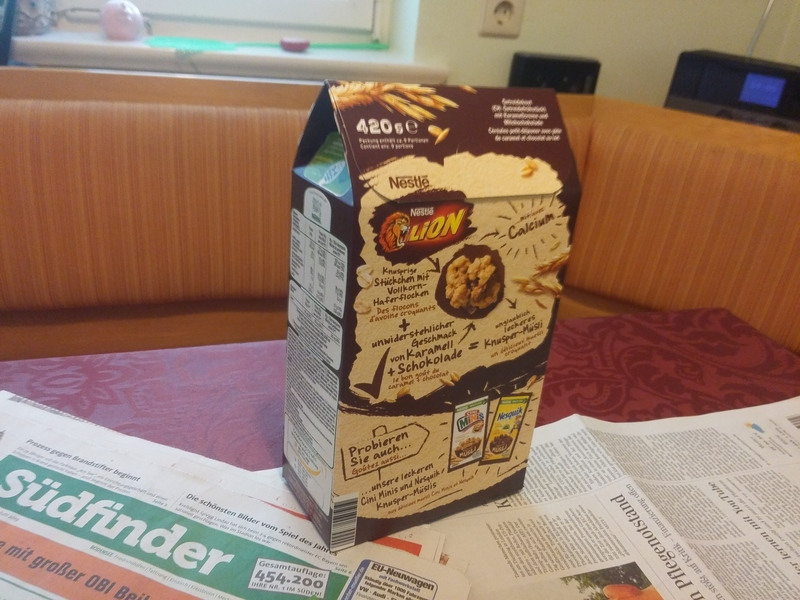cereals: (278, 79, 582, 554)
